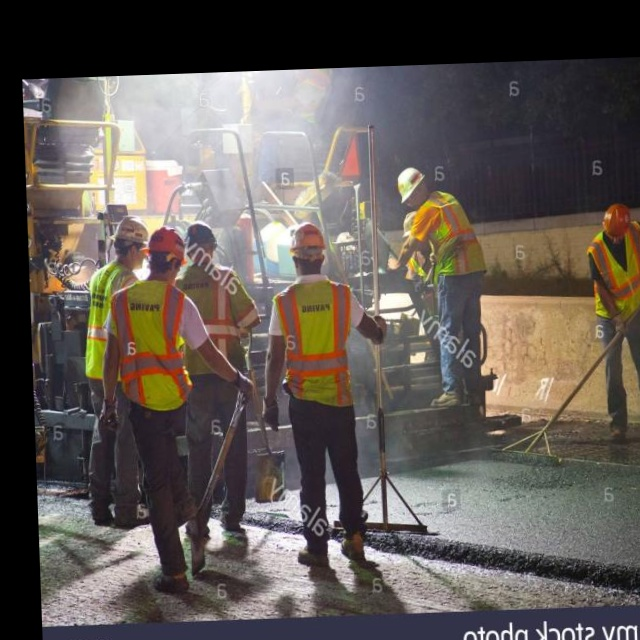Con_Casco: (288, 221, 327, 275), (599, 200, 630, 245), (396, 165, 427, 210)
Con_Chaleco: (274, 278, 352, 398), (114, 283, 189, 405), (417, 188, 476, 272)
